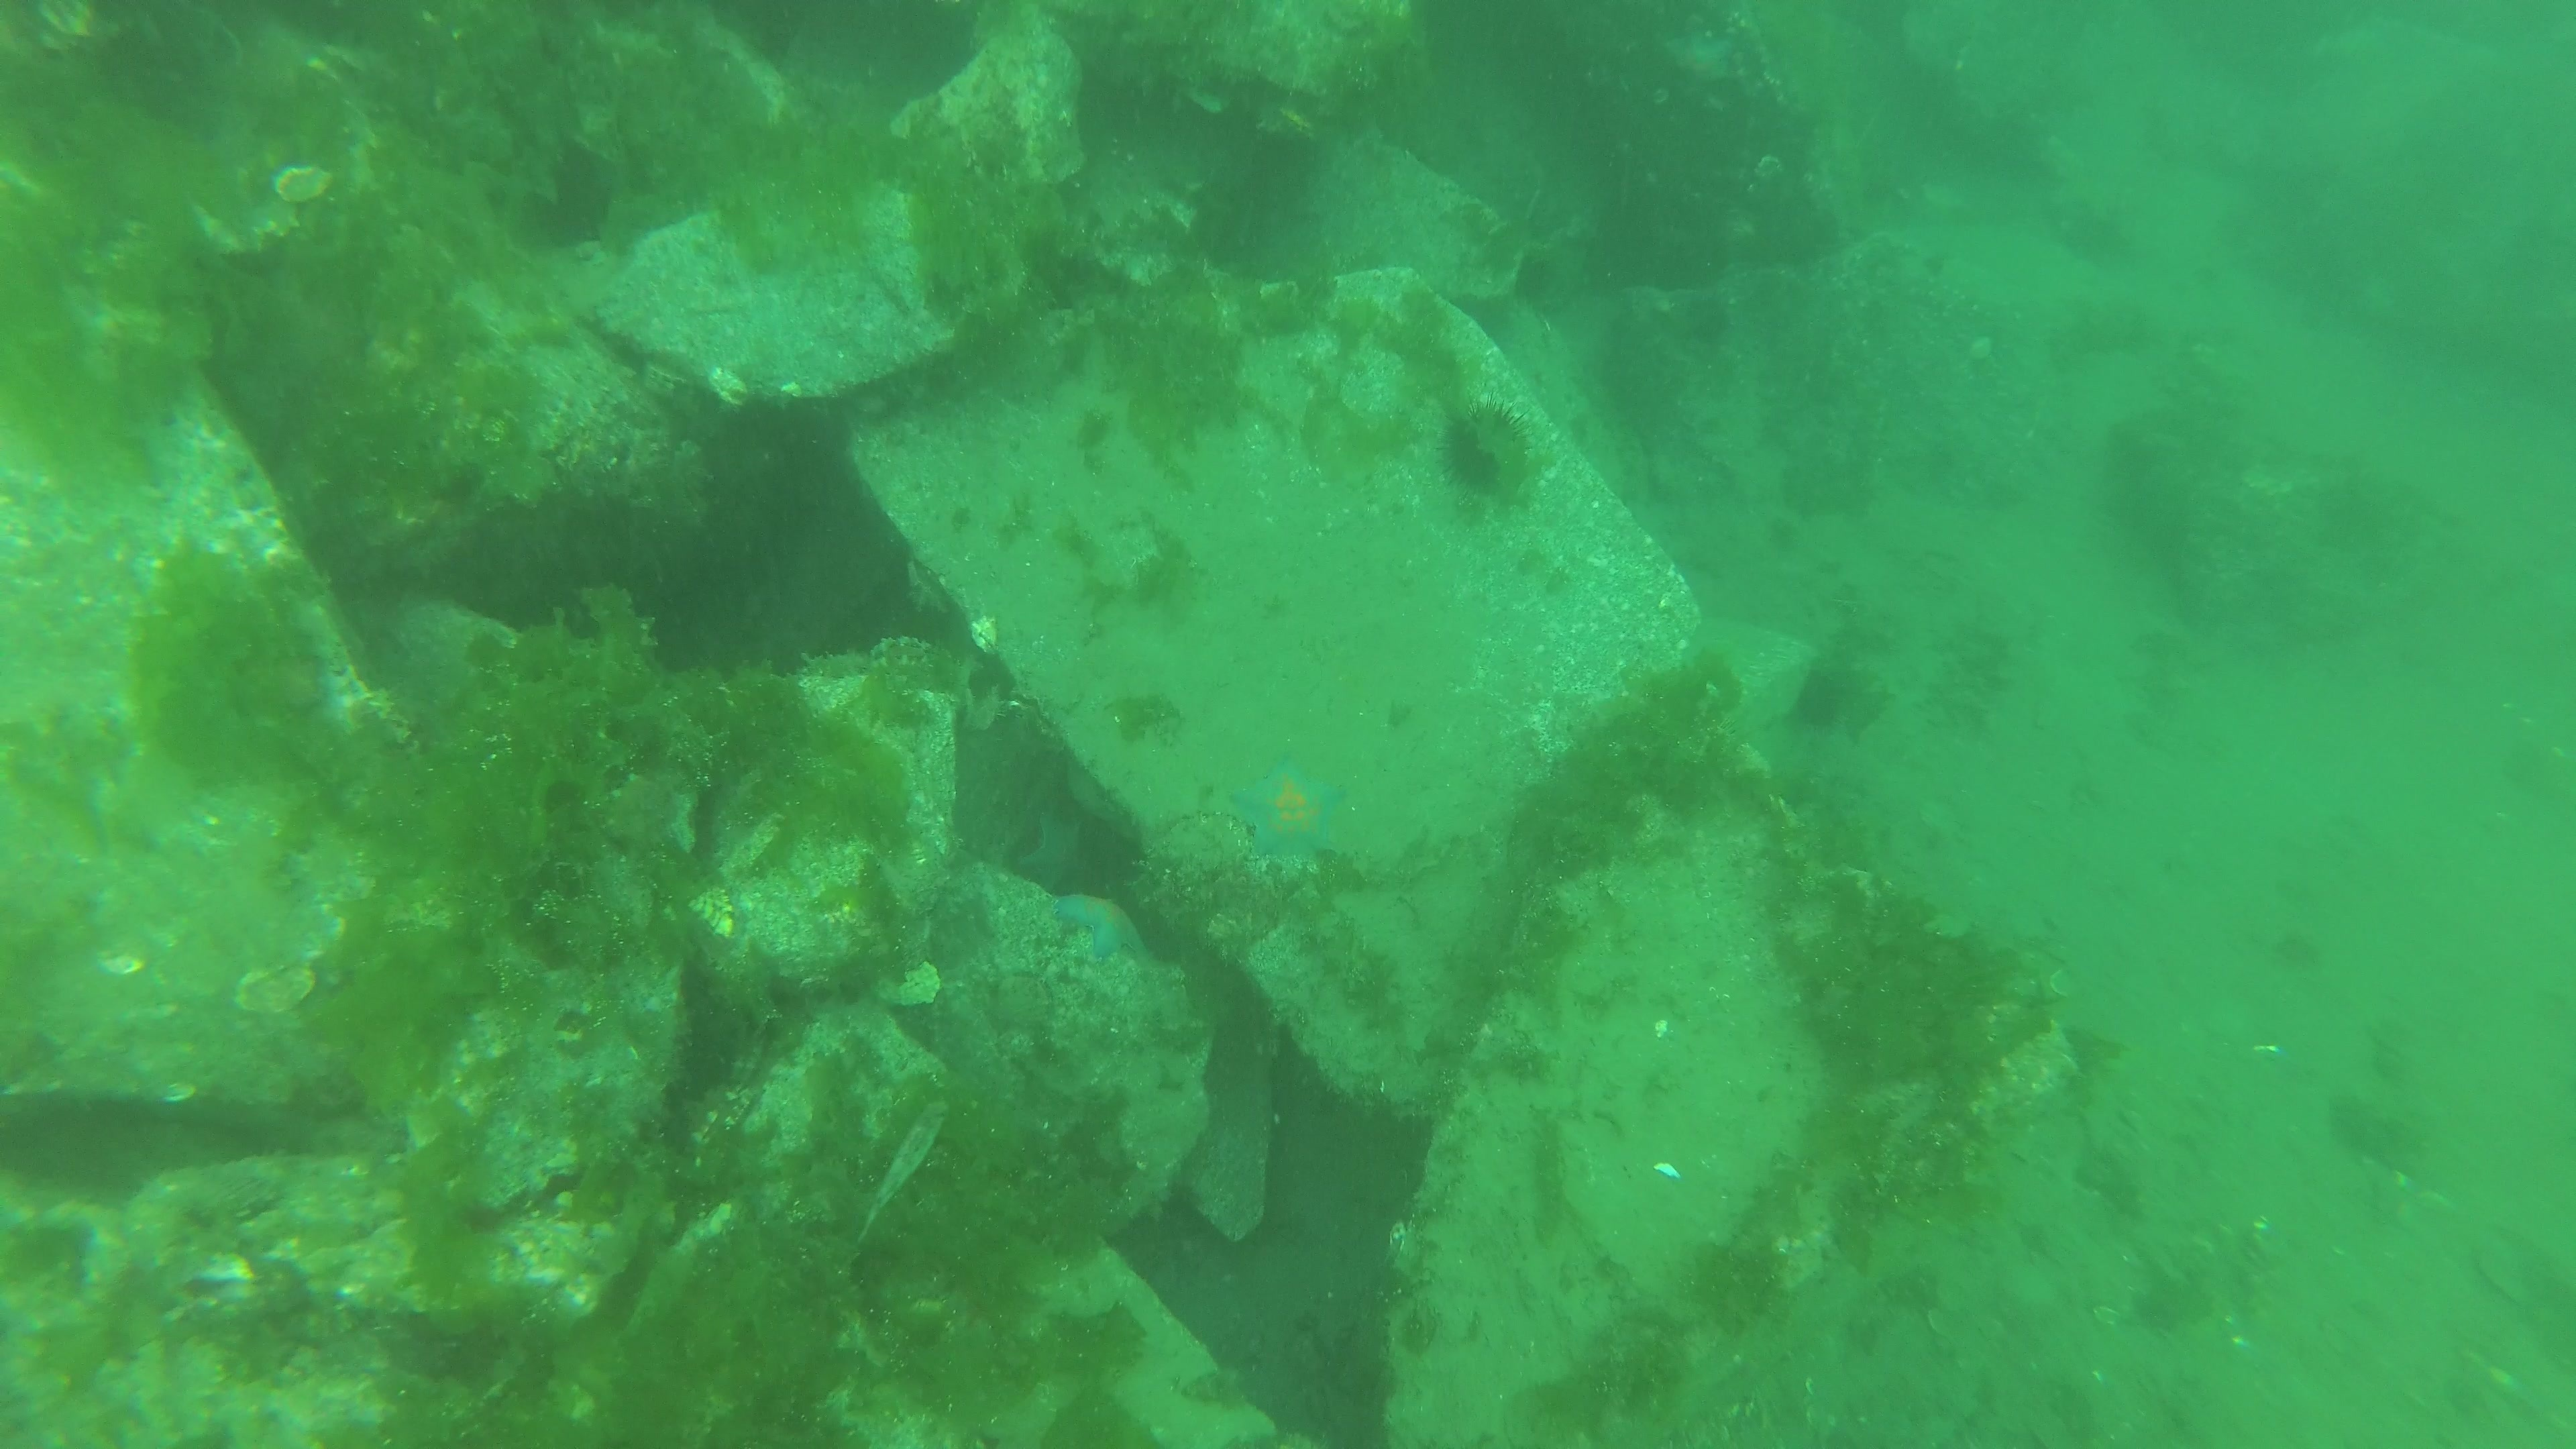echinus: (1433, 387, 1539, 501), (1798, 672, 1840, 738), (1513, 249, 1562, 304), (1683, 290, 1730, 345)
starfish: (1228, 755, 1345, 858), (1049, 892, 1159, 962), (1065, 757, 1141, 846), (1023, 809, 1093, 895), (1661, 28, 1736, 81)
